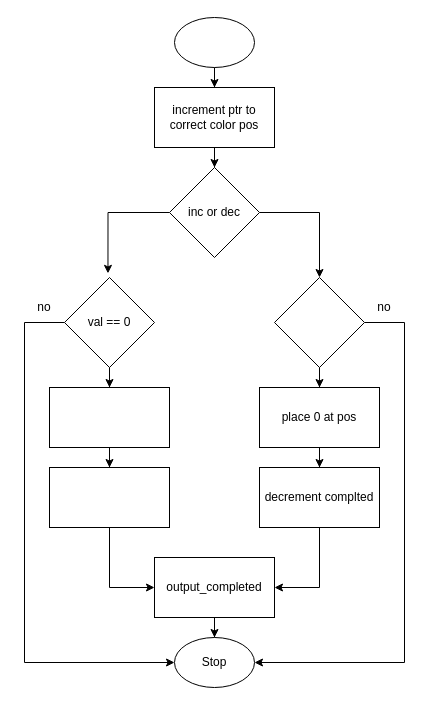
This 430x705 diagram has some shape labels left out. Here are the shapes that lost their labels. From the top down, the centre of each, then its label:
point (214, 42): Start
point (319, 322): val == 1
point (109, 417): place 1 at pos
point (109, 497): increment completed
